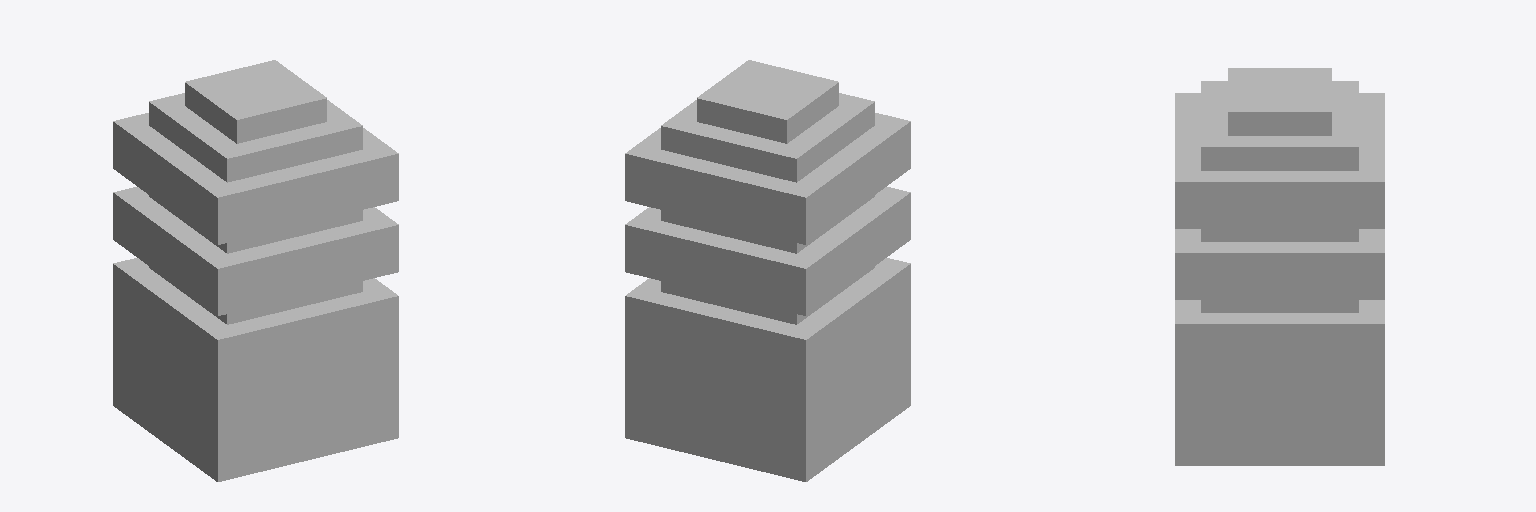
Rendered from connectorEV.obj.
The picture shows the model from 3 angles: view 1: azimuth 30°, elevation 25°; view 2: azimuth 150°, elevation 25°; view 3: azimuth 270°, elevation 25°; orthographic projection.
Visible parts, largest first — view 1: cube; view 2: cube; view 3: cube.
Boxes of the visible parts, x1,y1,x2,y2 form: cube: [113, 60, 398, 481]; cube: [625, 60, 910, 481]; cube: [1175, 68, 1384, 465].
Bounding box in the file's own units: 0.25 × 0.4375 × 0.25.